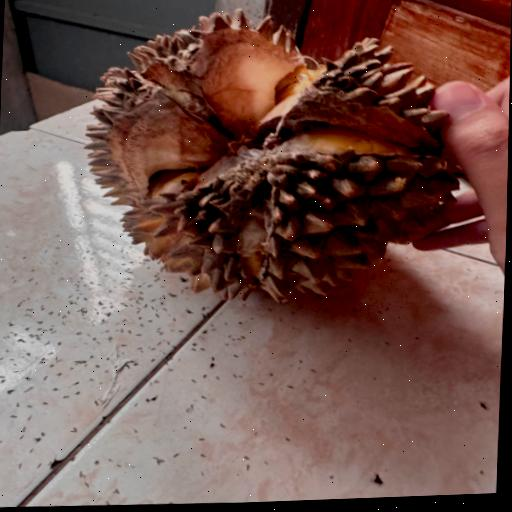rot: (61, 0, 511, 346)
